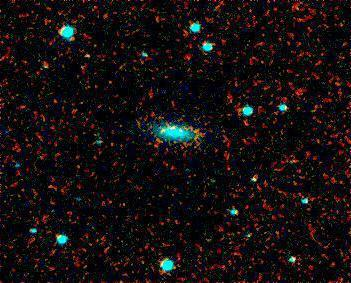star: (201, 165, 231, 195)
